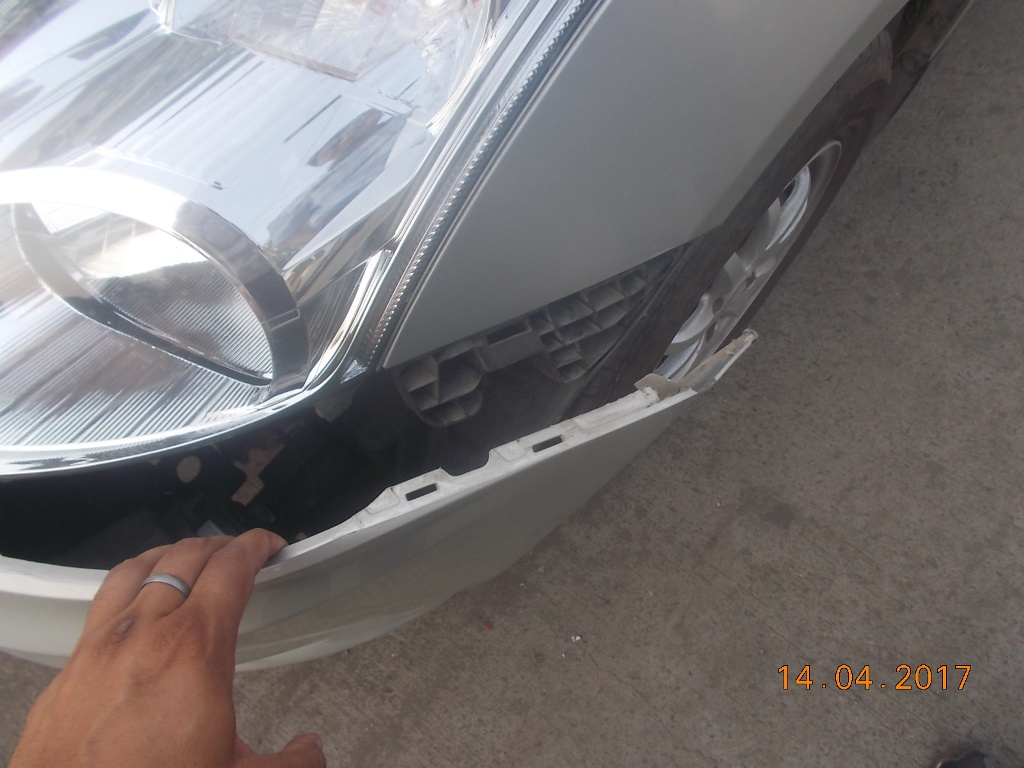Dislocation: (338, 278, 760, 470)
